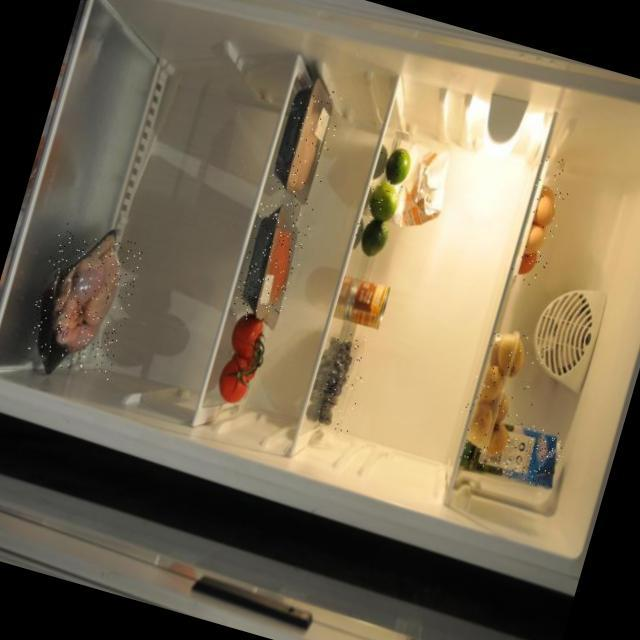Carne pollo: (19, 221, 146, 382)
Huevos: (505, 151, 577, 290)
Patata: (450, 319, 551, 462)
Tomate: (211, 312, 285, 414)
lime: (352, 144, 412, 249)
meat: (264, 74, 347, 212), (228, 200, 313, 329)
milk: (456, 408, 566, 490)
olive: (309, 326, 377, 439)
